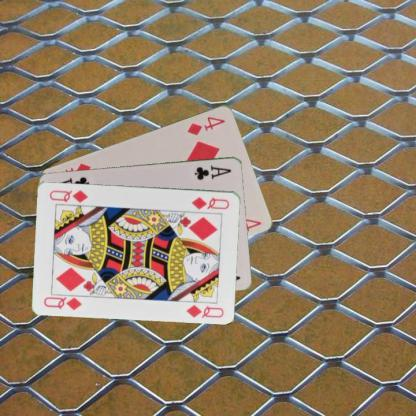4d: (184, 113, 226, 136)
Ac: (192, 162, 233, 181)
Qd: (42, 290, 86, 310), (189, 194, 230, 212)
